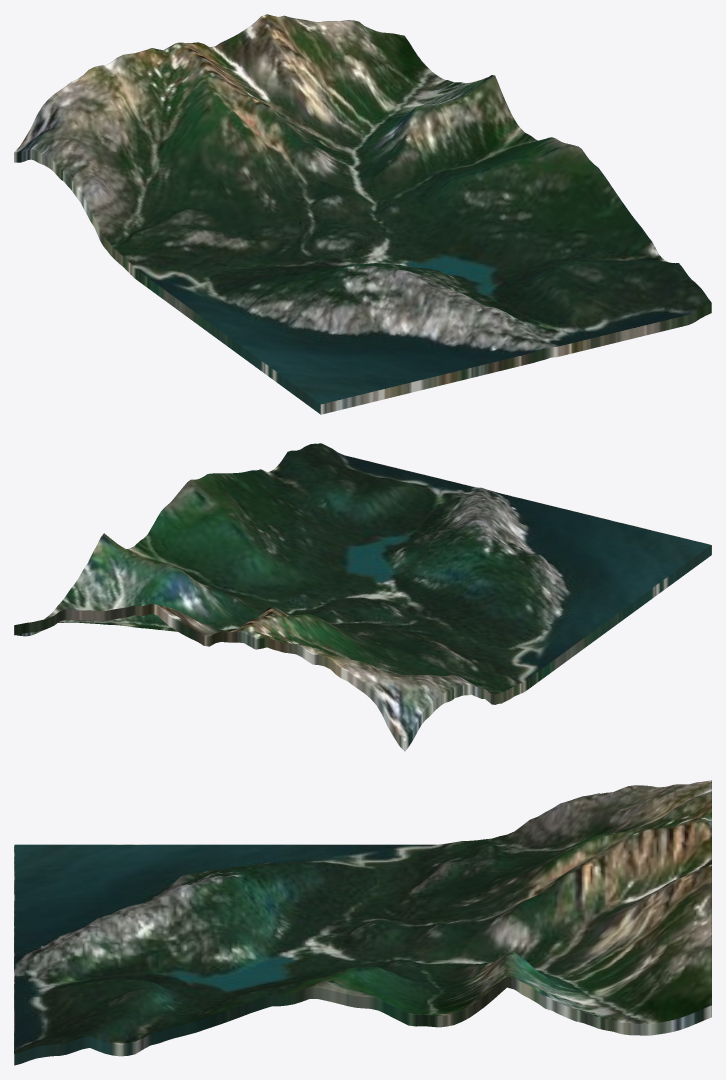
The picture shows the model from 3 angles, top to bottom: view 1: azimuth 30°, elevation 25°; view 2: azimuth 150°, elevation 25°; view 3: azimuth 270°, elevation 25°; orthographic projection. The views are drawn at different scales.
Visible parts, largest first — view 1: tile; view 2: tile; view 3: tile.
Boxes of the visible parts, x1,y1,x2,y2 form: tile: (14, 14, 711, 414); tile: (14, 443, 711, 751); tile: (14, 780, 711, 1065).
Size of the model in its own units: 4050 by 1130 by 5505.
1 material, 1 textured.
